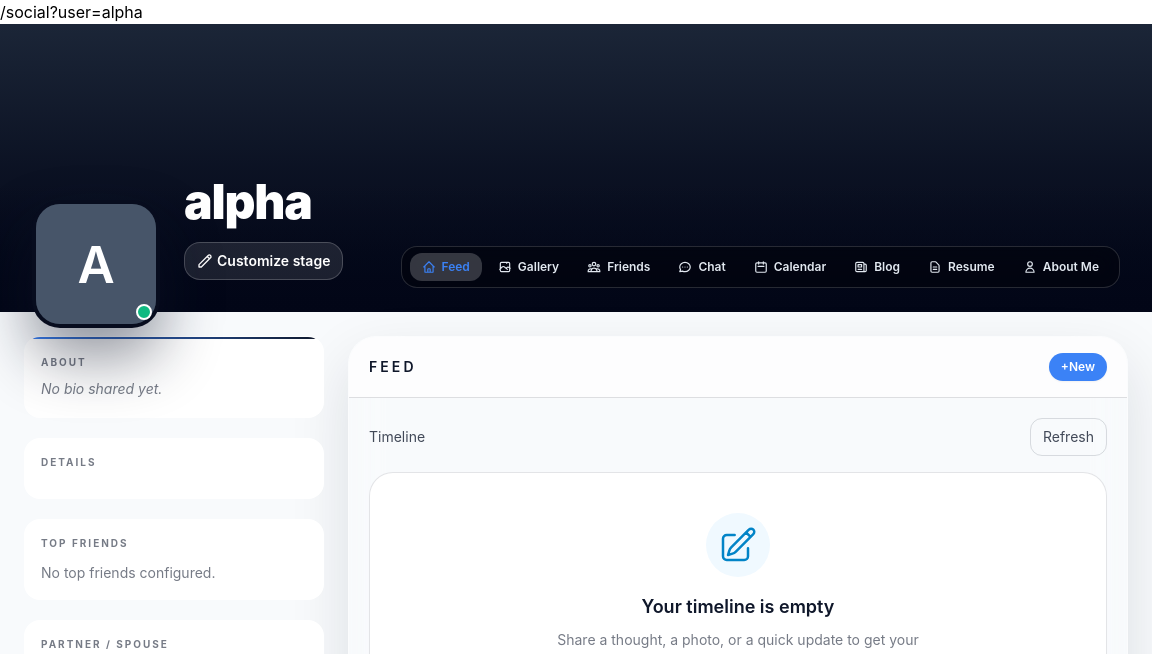
it: Social page hero background rendering › routes owner resume actions on social page to /resume
Click the button "Resume".
click(961, 267)  # box [916,253,1007,281]
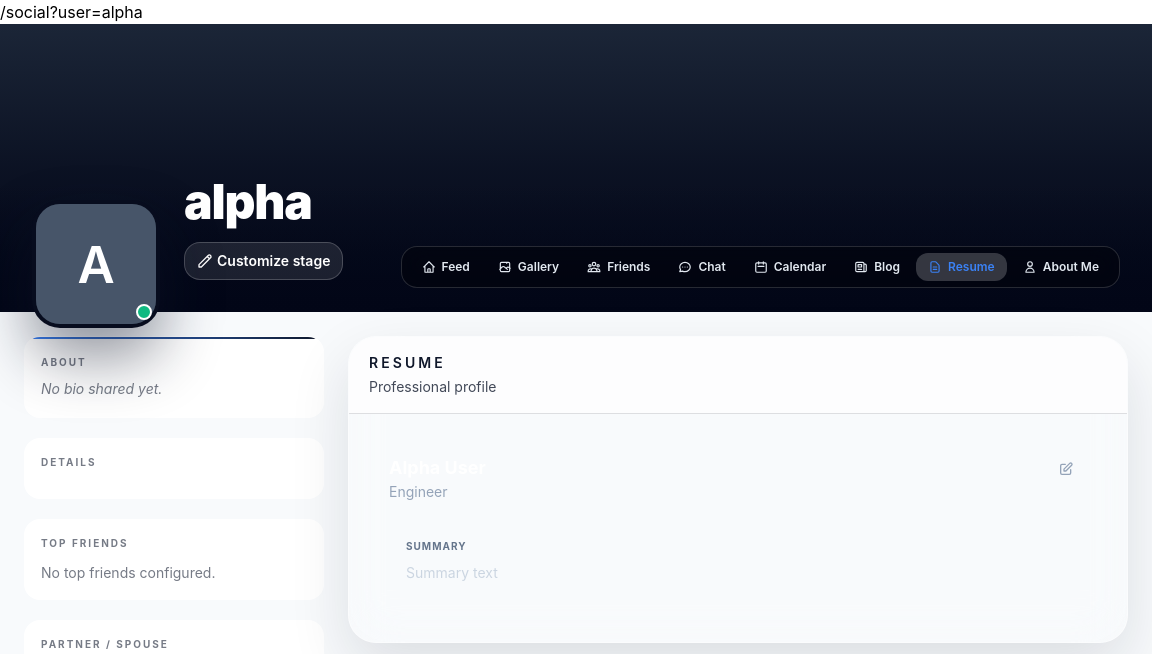
Result: the link titled "Edit resume in settings" is shown at [1045,454,1087,484]
